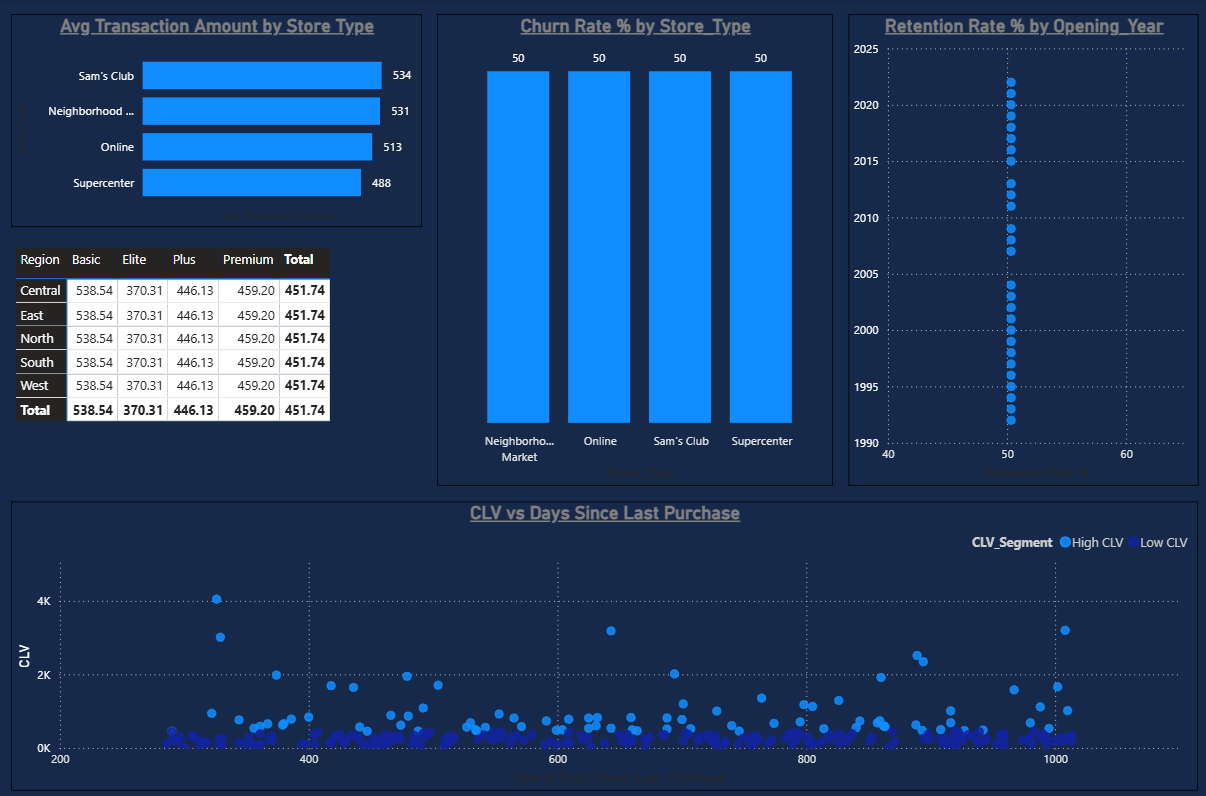

Layout of this report page (visuals, bound fields, positions):
{"tool":"powerbi","page":{"name":"Page4","canvas":[1280,850],"ordinal":3},"visuals":[{"type":"clusteredBarChart","title":"Avg Transaction Amount by Store Type","fields":{"Category":["Store_Locations.Store_Type"],"Y":["Measures_Folder.Avg Transaction Amount"]},"box":[16,16,432,224],"z":0},{"type":"clusteredColumnChart","fields":{"Y":["Measures_Folder.Churn Rate %"],"Category":["Store_Locations.Store_Type"]},"box":[464,16,416,496],"z":1000},{"type":"scatterChart","fields":{"X":["Measures_Folder.Retention Rate %"],"Y":["Store_Locations.Opening_Year"]},"box":[896,16,368,496],"z":2000},{"type":"scatterChart","title":"CLV vs Days Since Last Purchase","fields":{"X":["Sum(Customer_Demographics.Days_Since_Last_Purchase)"],"Y":["Sum(Customer_Demographics.CLV)"],"Category":["Customer_Demographics.Customer_ID"],"Series":["Customer_Demographics.CLV_Segment"]},"box":[16,528,1248,304],"z":3000},{"type":"pivotTable","fields":{"Rows":["Store_Locations.Region"],"Values":["Avg(Customer_Demographics.CLV)"],"Columns":["Loyalty_Program.Loyalty_Tier"]},"box":[16,256,432,256],"z":4000}]}

Visuals, with their boxes in screenshot pixels (x1, y1, x2, y2), scaled from the page's 1280x850 canvas onto the 1206x796 screenshot:
"Avg Transaction Amount by Store Type" clusteredBarChart: l=15, t=15, r=422, b=225
clusteredColumnChart - Measures_Folder.Churn Rate % x Store_Locations.Store_Type: l=437, t=15, r=829, b=479
scatterChart - Measures_Folder.Retention Rate % x Store_Locations.Opening_Year: l=844, t=15, r=1191, b=479
"CLV vs Days Since Last Purchase" scatterChart: l=15, t=494, r=1191, b=779
pivotTable - Store_Locations.Region x Avg(Customer_Demographics.CLV): l=15, t=240, r=422, b=479
